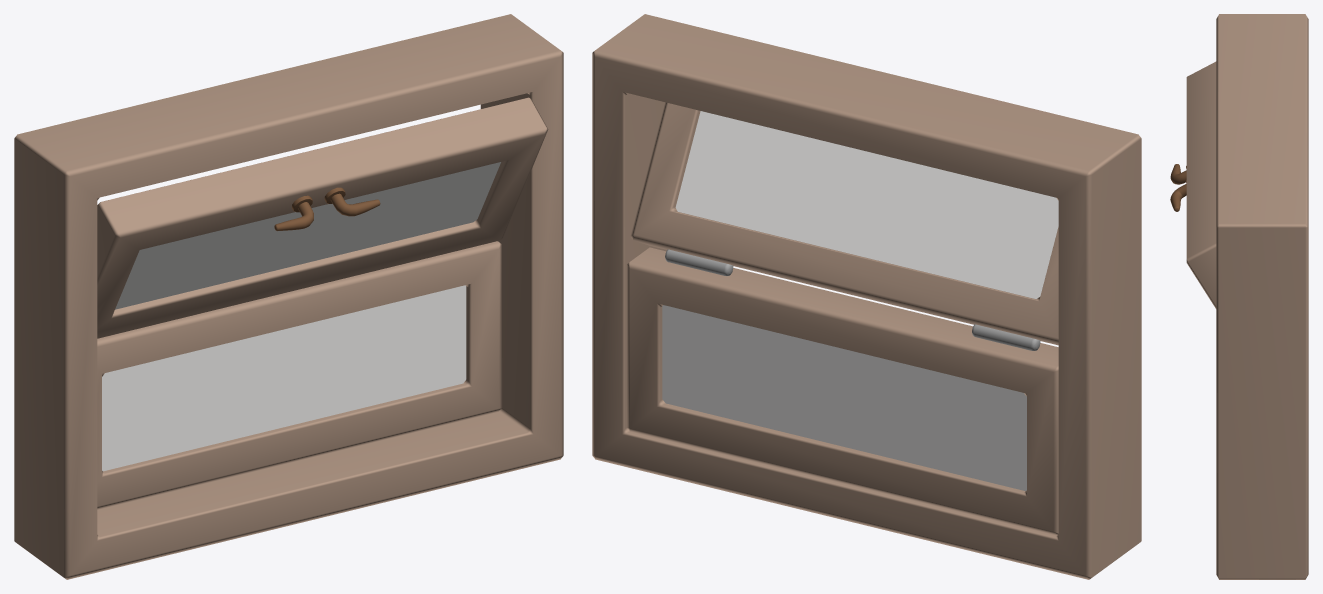
Rendered from Window_1.glb.
3 views of the same model, side by side, from view 1: azimuth 30°, elevation 25°; view 2: azimuth 150°, elevation 25°; view 3: azimuth 270°, elevation 25° (orthographic). The views are drawn at different scales.
Parts seen in each view (by area): view 1: Window_1; view 2: Window_1; view 3: Window_1.
Part boxes in pixels (x1,y1,x2,y2): Window_1: (14, 14, 563, 579); Window_1: (592, 14, 1141, 579); Window_1: (1170, 14, 1308, 579).
Bounding box in the file's own units: 2.49 × 1.95 × 0.6851.
Materials: 2 (2 with a texture image).
